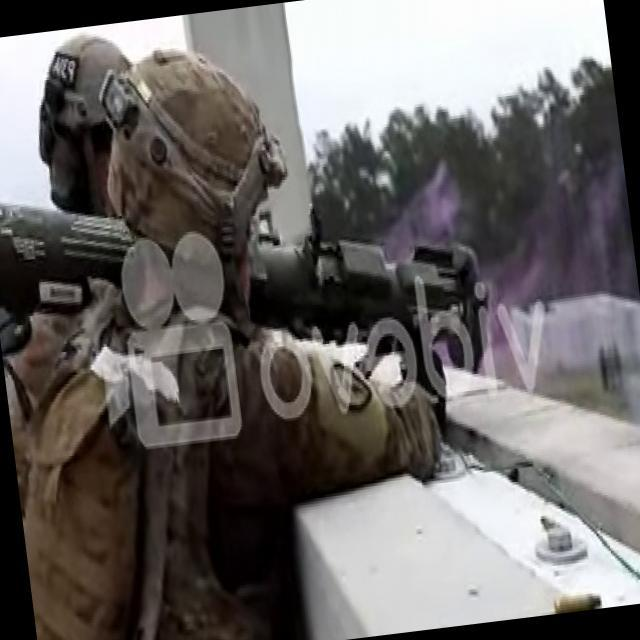rocket: (0, 153, 482, 420)
